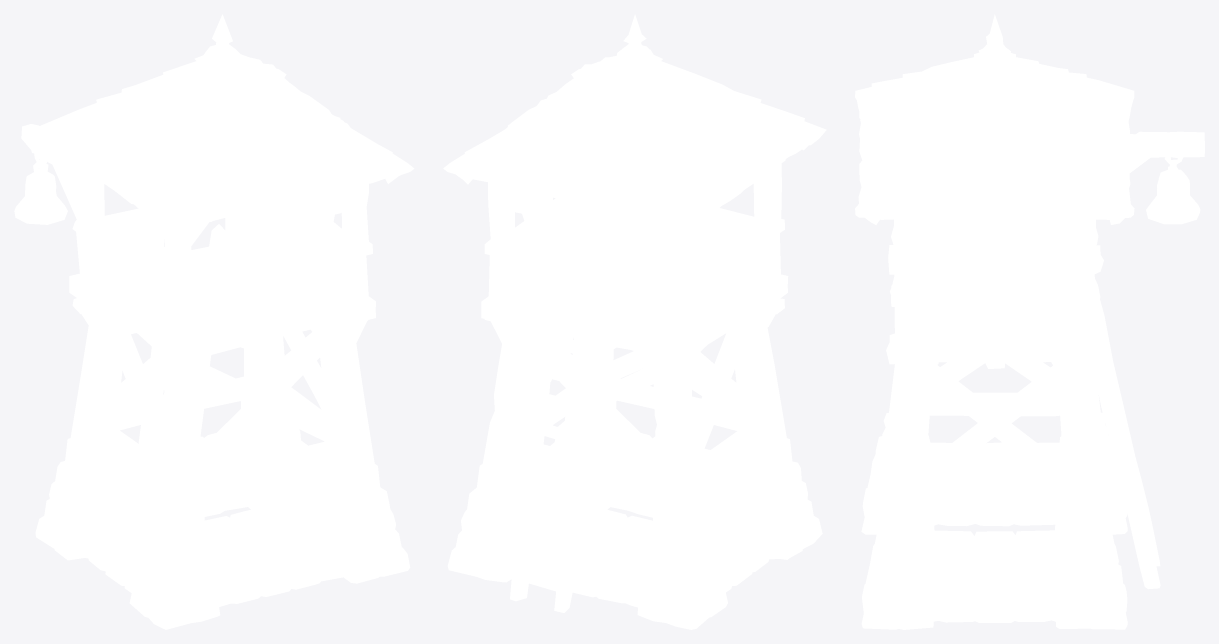
File: watchtower.glb
3 views of the same model, side by side, from view 1: azimuth 30°, elevation 25°; view 2: azimuth 150°, elevation 25°; view 3: azimuth 270°, elevation 25° (orthographic). The views are drawn at different scales.
Visible parts, largest first — view 1: lod0; view 2: lod0; view 3: lod0.
Boxes of the visible parts, box(x1,y1,x2,y2) form: lod0: box(14, 14, 414, 629); lod0: box(443, 14, 826, 629); lod0: box(855, 14, 1204, 629).
Size of what is drawn, in the model's own units: 4.24 by 8.8 by 5.04.
1 material, 1 textured.
